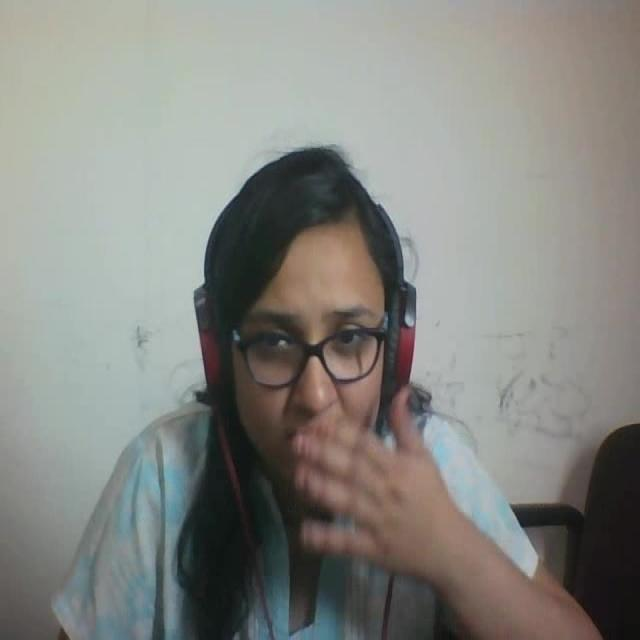Bored: (170, 124, 448, 492)
